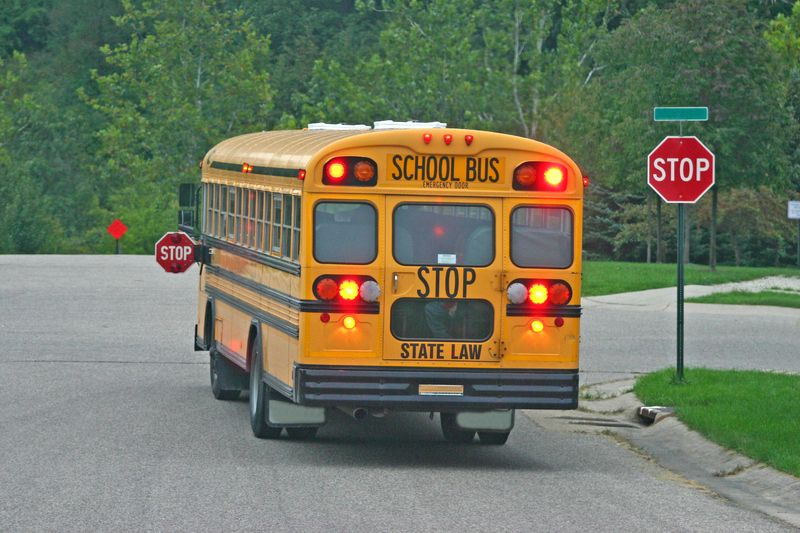Bus: (172, 116, 587, 451)
